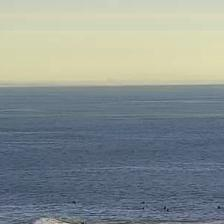surfer: (72, 200, 77, 204), (216, 206, 222, 209), (80, 221, 86, 223), (141, 207, 145, 210), (163, 206, 167, 209), (166, 208, 169, 211), (142, 202, 146, 204)
